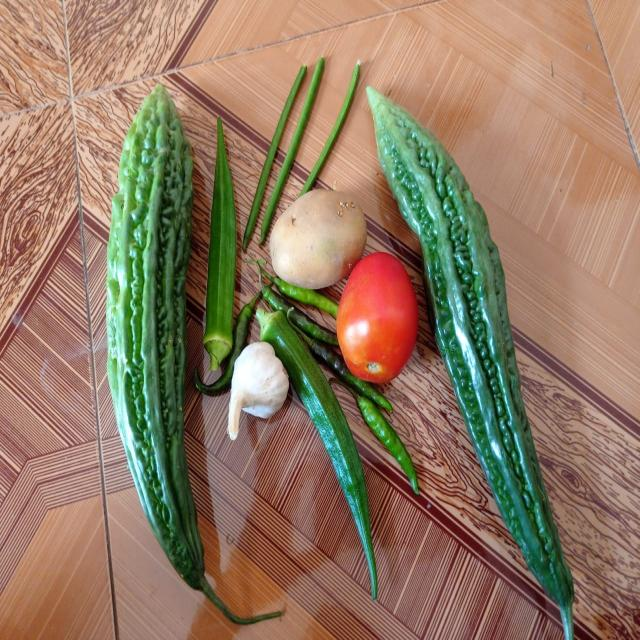Organik: (430, 144, 572, 604), (102, 91, 198, 610), (338, 254, 416, 387), (268, 187, 368, 290), (222, 338, 296, 439), (208, 122, 232, 369)
